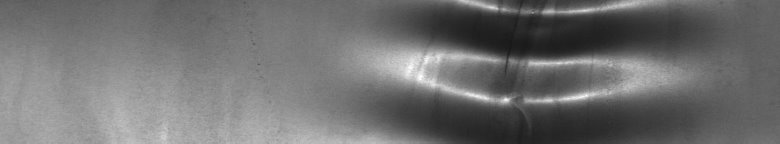ke: (364, 4, 701, 136)
